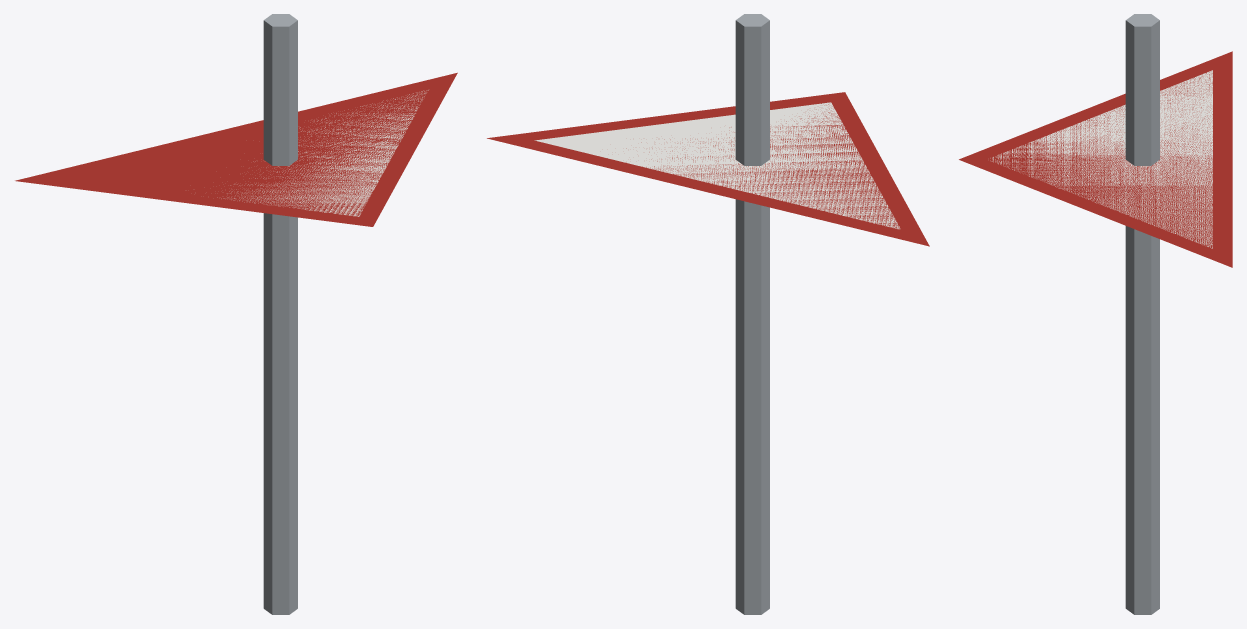
Rendered from prop.yield-sign.glb.
The picture shows the model from 3 angles, left to right: view 1: azimuth 30°, elevation 25°; view 2: azimuth 150°, elevation 25°; view 3: azimuth 270°, elevation 25°; orthographic projection.
Visible parts, largest first — view 1: prop.yield-sign; view 2: prop.yield-sign; view 3: prop.yield-sign.
Part boxes in pixels (bbox=[...]): prop.yield-sign: bbox=[15, 14, 457, 614]; prop.yield-sign: bbox=[487, 14, 929, 614]; prop.yield-sign: bbox=[959, 14, 1232, 614].
Bounding box in the file's own units: 1.5 × 1.9 × 0.8025.
